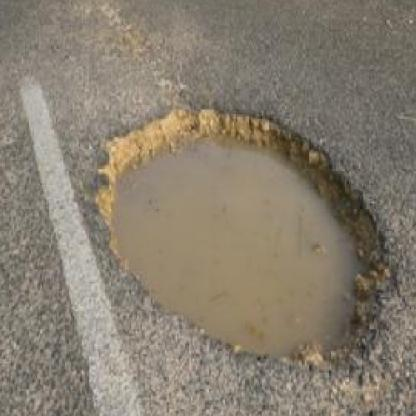pothole: (103, 103, 397, 332)
